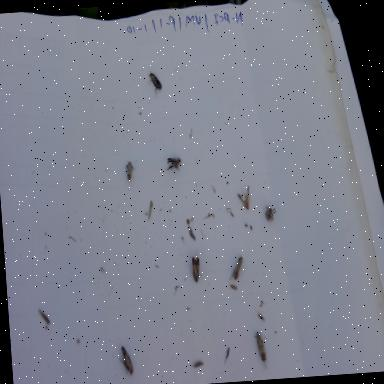pbw: (251, 328, 271, 370), (146, 66, 165, 101), (116, 342, 134, 378), (188, 252, 207, 286), (228, 252, 245, 282), (236, 183, 253, 211), (121, 157, 137, 186), (164, 152, 184, 174), (38, 308, 51, 325), (228, 280, 238, 292), (257, 311, 266, 322)
